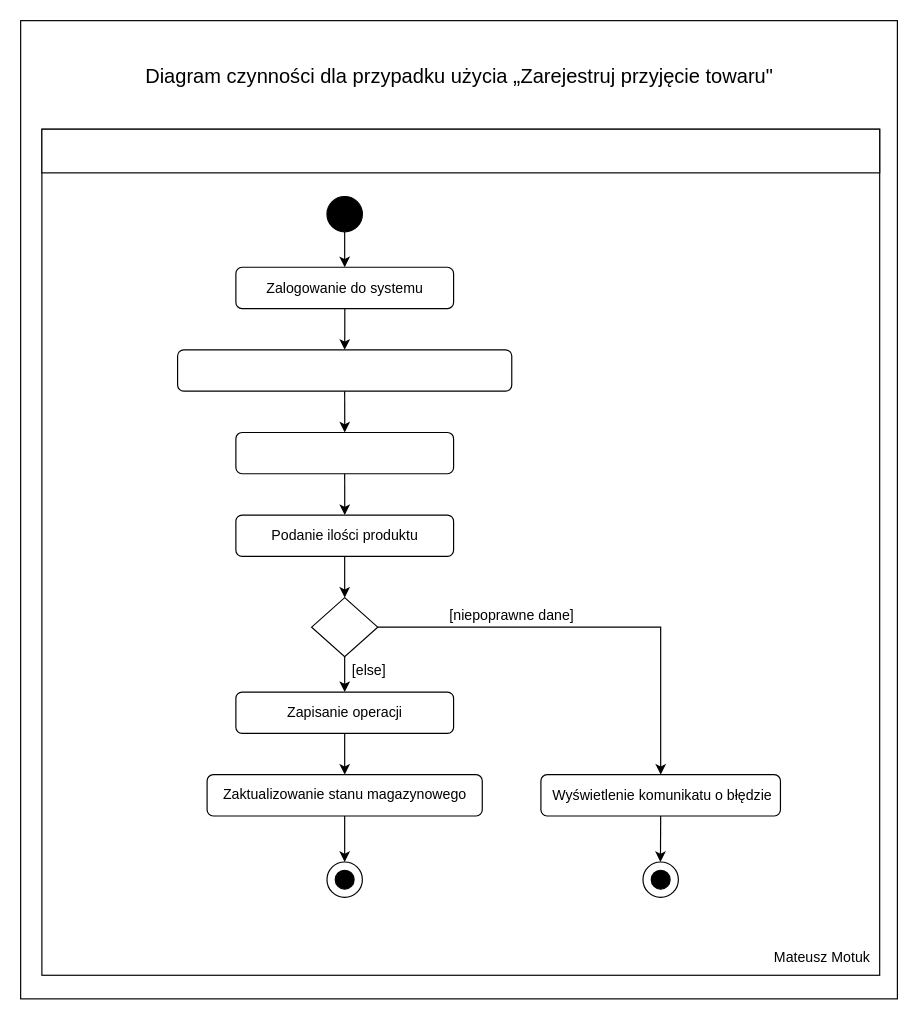
This 918x1020 diagram has some shape labels left out. The centre of each missing label's shape, as x and y in pixels:
Magazyn: point (460, 150)
Wybranie opcji "Zarejestruj przyjęcie towaru": point (344, 370)
Wybranie produktu: point (344, 452)
